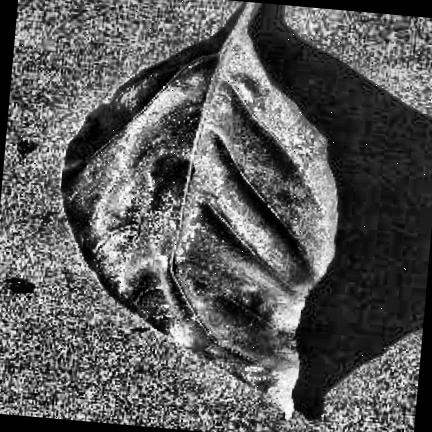leaf: (61, 2, 336, 417)
